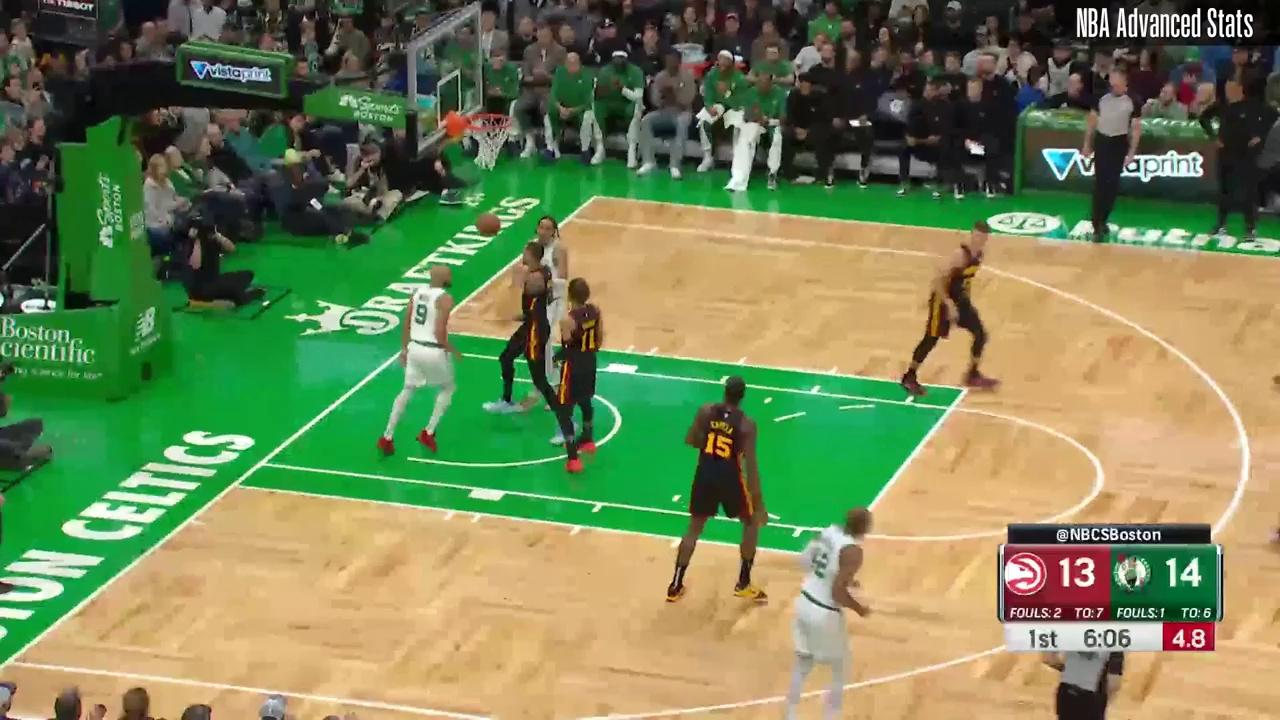3_dx: (566, 216, 573, 222)
3_sx: (5, 658, 13, 666)
b_dx: (592, 194, 598, 200)
free_adx: (962, 387, 969, 394)
free_bsx: (231, 480, 239, 488)
referee: (1083, 69, 1142, 243), (1040, 616, 1124, 720)
team: (784, 506, 871, 720), (376, 264, 464, 456), (515, 215, 567, 410)
team1: (668, 375, 768, 602), (481, 241, 579, 444), (899, 219, 1003, 394), (552, 277, 604, 473)
timer: (1084, 626, 1136, 649)
